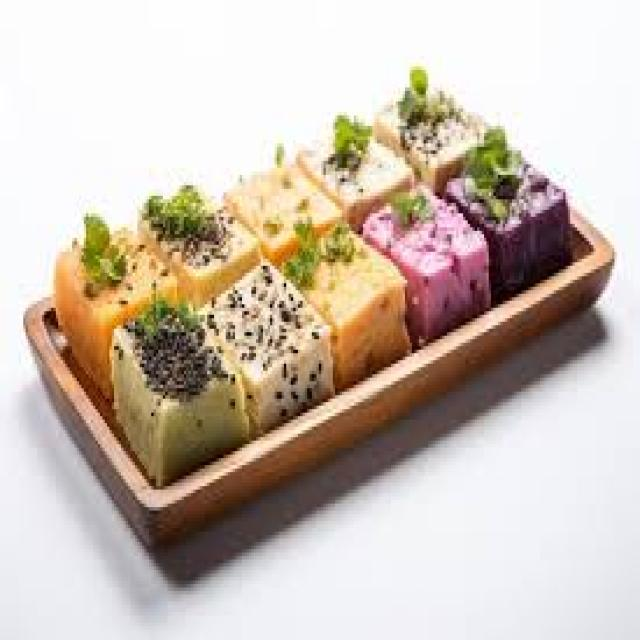DHOKLA: (26, 108, 612, 542)
